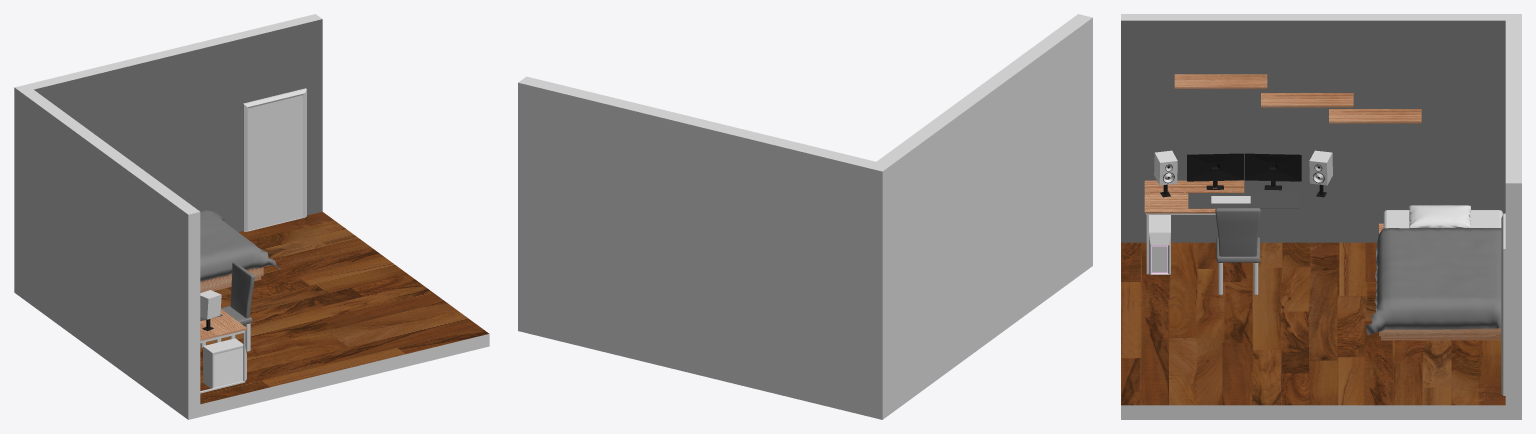
The model's file is room.gltf.
3 views of the same model, side by side, from view 1: azimuth 30°, elevation 25°; view 2: azimuth 150°, elevation 25°; view 3: azimuth 270°, elevation 25° (orthographic). The views are drawn at different scales.
Parts seen in each view (by area): view 1: Cube, Cube.005, Plane.001, Cube.006, Plane, Cube.004, Cube.011, Cube.001; view 2: Cube; view 3: Cube, Plane.001, Plane, Cube.004, Cube.007, Cube.009, Cube.001, Cube.008, Cube.003, Cube.015, Cube.013, Cube.014 (+5 smaller).
Part boxes in pixels (box(x1,y1,x2,y2)): Cube: box(14, 14, 489, 419); Cube.005: box(243, 88, 306, 231); Plane.001: box(199, 209, 280, 281); Cube.006: box(203, 338, 246, 388); Plane: box(200, 262, 254, 351); Cube.004: box(200, 309, 247, 393); Cube.011: box(200, 290, 221, 330); Cube.001: box(200, 267, 263, 292); Cube: box(518, 14, 1092, 419); Cube: box(1121, 14, 1521, 419); Plane.001: box(1365, 228, 1501, 334); Plane: box(1215, 208, 1260, 294); Cube.004: box(1144, 180, 1244, 274); Cube.007: box(1244, 153, 1301, 190); Cube.009: box(1187, 153, 1243, 189); Cube.001: box(1379, 223, 1501, 340); Cube.008: box(1188, 193, 1298, 208); Cube.003: box(1409, 205, 1470, 228); Cube.015: box(1174, 74, 1267, 88); Cube.013: box(1261, 93, 1353, 107); Cube.014: box(1329, 109, 1421, 123).
Bounding box in the file's own units: 8.66 × 5.64 × 8.66.
Materials: 18 (2 with a texture image).
